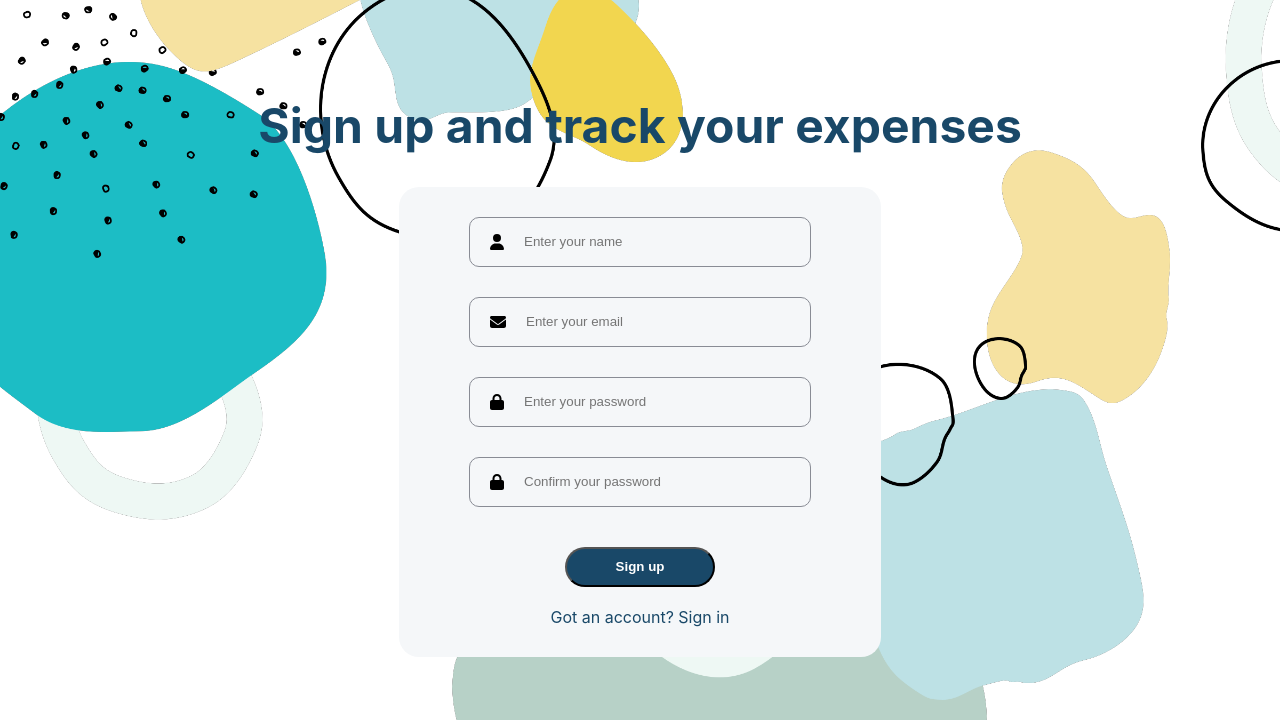
it: Register › when typing in email › if email is not in correct format › shows the correct error
In the field with placeholder "Enter your email": (642, 322) [506,296,778,348], type "test"
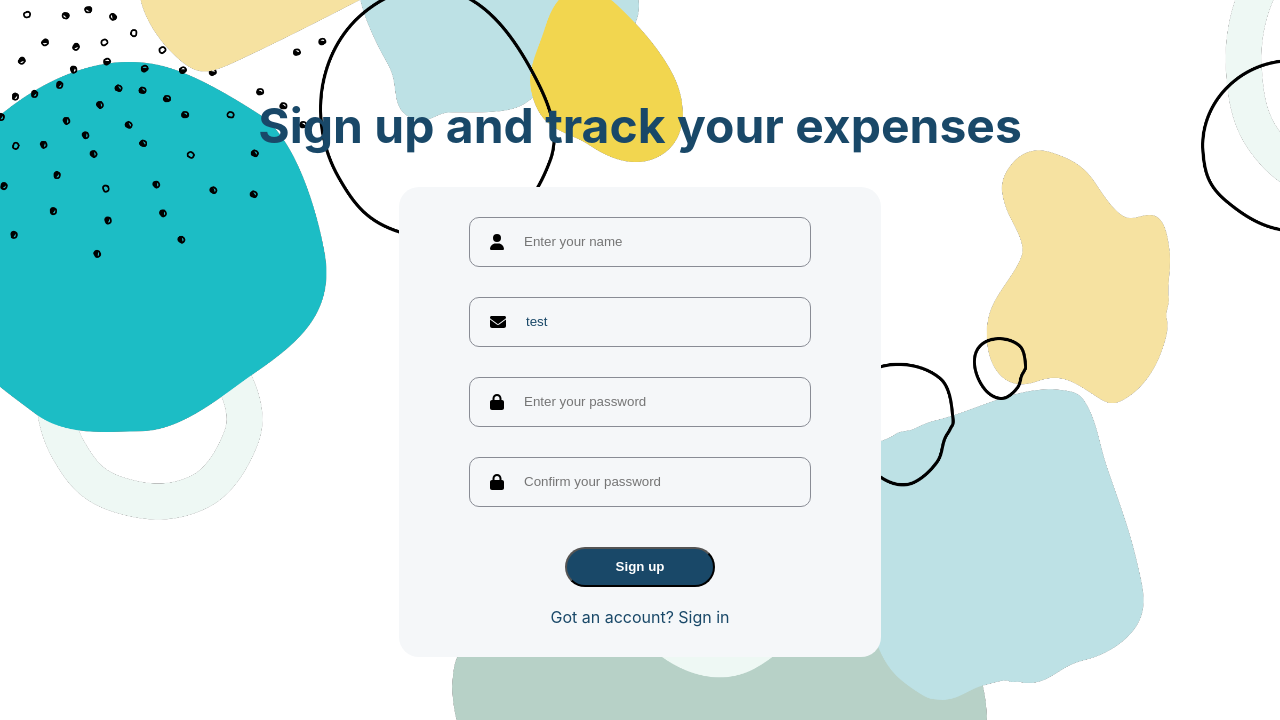
Click the heading "Sign up and track your expenses": (640, 125) [258,96,1022,154]
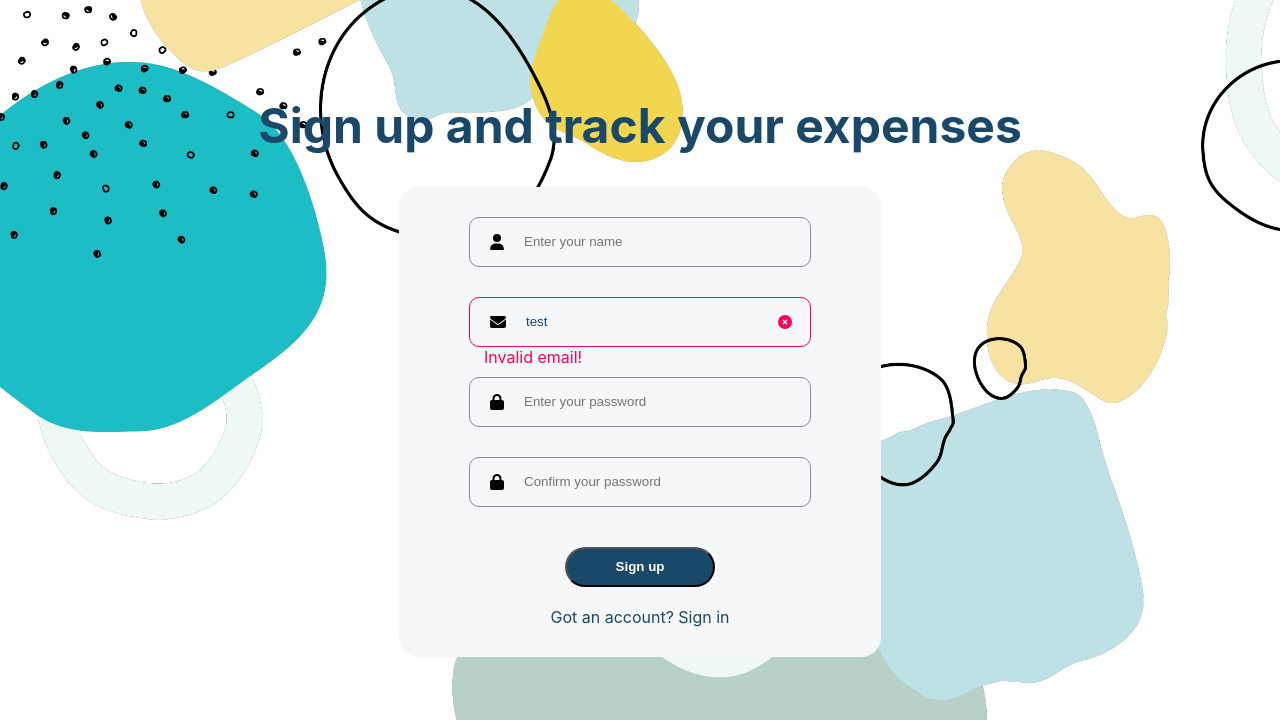
Check: the text "Invalid email!" is shown, box [484,347,582,367]
